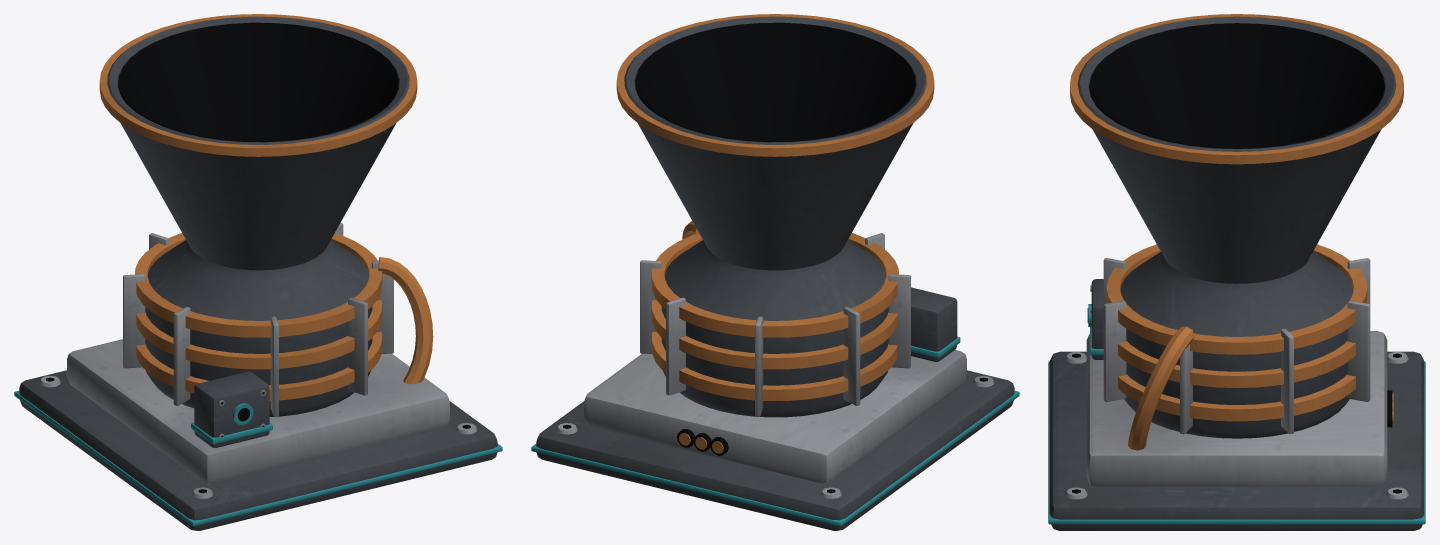
The model's file is thruster_3.glb.
3 views of the same model, side by side, from view 1: azimuth 30°, elevation 25°; view 2: azimuth 150°, elevation 25°; view 3: azimuth 270°, elevation 25° (orthographic). The views are drawn at different scales.
Parts seen in each view (by area): view 1: Body; view 2: Body; view 3: Body.
Boxes of the visible parts, <box> form: Body: <box>14,14,502,530</box>; Body: <box>531,14,1019,530</box>; Body: <box>1048,14,1425,530</box>.
Bounding box in the file's own units: 0.2256 × 0.246 × 0.2256.
6 materials, 3 textured.
